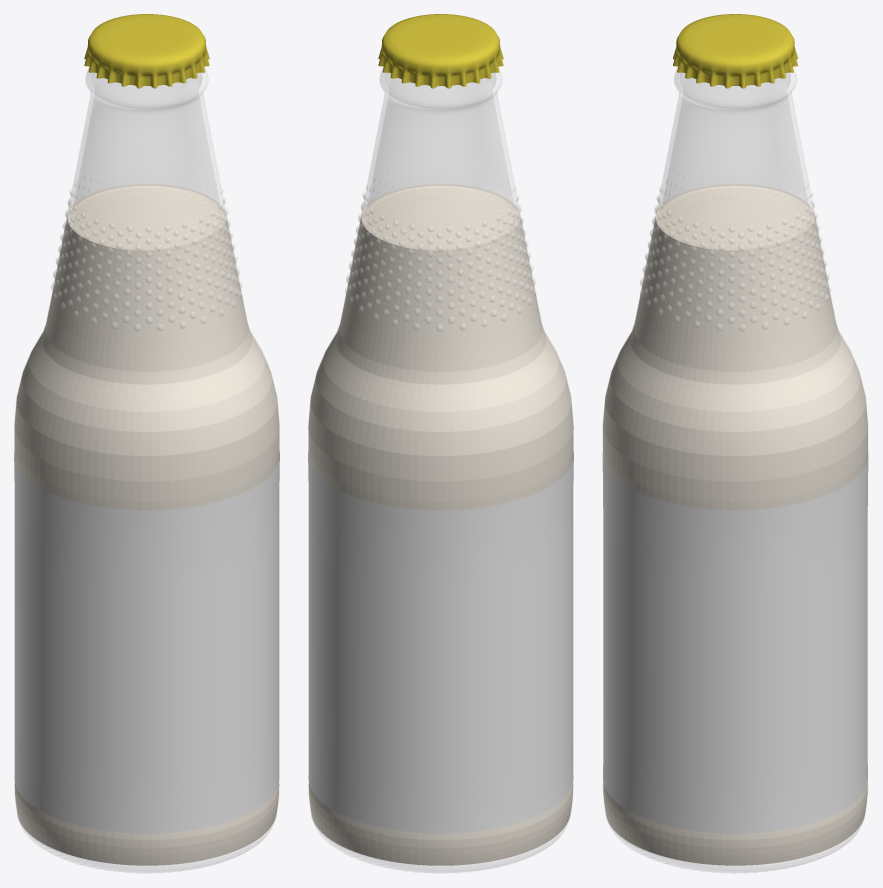
Rendered from glass-300-milk.glb.
3 views of the same model, side by side, from view 1: azimuth 30°, elevation 25°; view 2: azimuth 150°, elevation 25°; view 3: azimuth 270°, elevation 25° (orthographic).
Visible parts, largest first — view 1: Label, Water, Body, Neck, Cap, Base; view 2: Label, Water, Body, Neck, Cap, Base; view 3: Label, Water, Body, Neck, Cap, Base.
Part boxes in pixels (box(x1,y1,x2,y2)): Label: box(14, 450, 279, 833); Water: box(14, 184, 279, 865); Body: box(14, 180, 279, 866); Neck: box(67, 67, 226, 251); Cap: box(84, 14, 209, 88); Base: box(19, 821, 274, 873); Label: box(308, 450, 573, 833); Water: box(308, 184, 573, 865); Body: box(308, 185, 573, 866); Neck: box(361, 67, 520, 251); Cap: box(378, 14, 503, 88); Base: box(314, 821, 568, 873); Label: box(602, 450, 868, 833); Water: box(603, 184, 867, 865); Body: box(602, 181, 868, 866); Neck: box(655, 67, 815, 251); Cap: box(673, 14, 797, 88); Base: box(608, 823, 862, 873).
Bounding box in the file's own units: 0.0596 × 0.195 × 0.0596.
